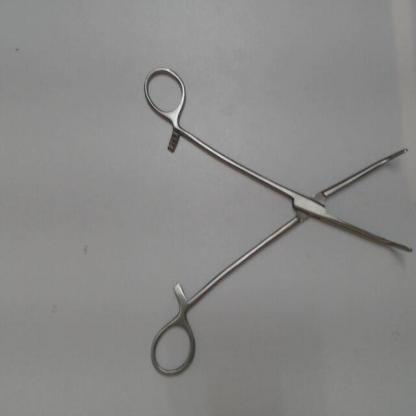Lahey Forceps: (138, 58, 415, 383)
